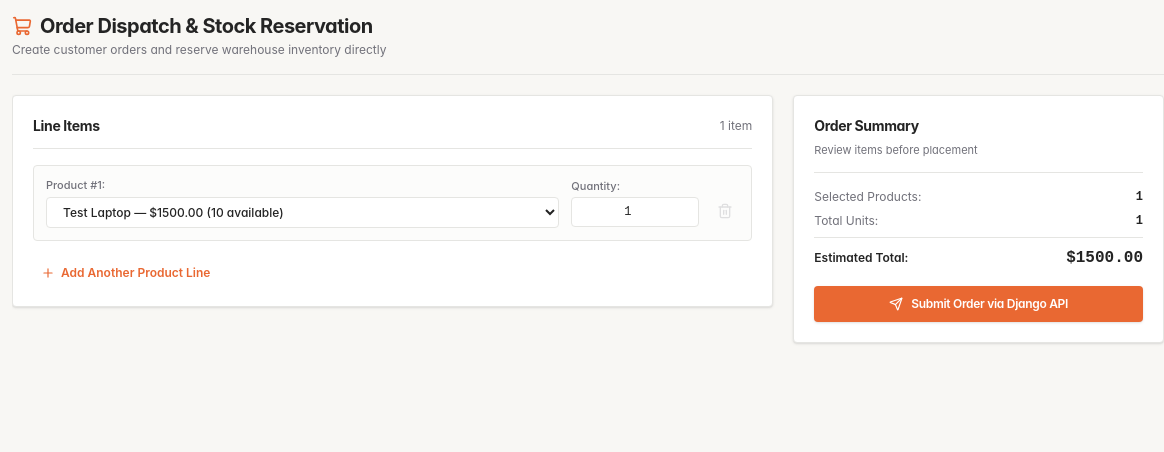
Test: OrdersPage — Primary Demo Slice › shows validation warning when quantity exceeds available stock
The width and height of the screenshot is (1164, 452).
Replace the text in the number field showing "1" with "999" at x=635, y=212, box [571,197,699,227]
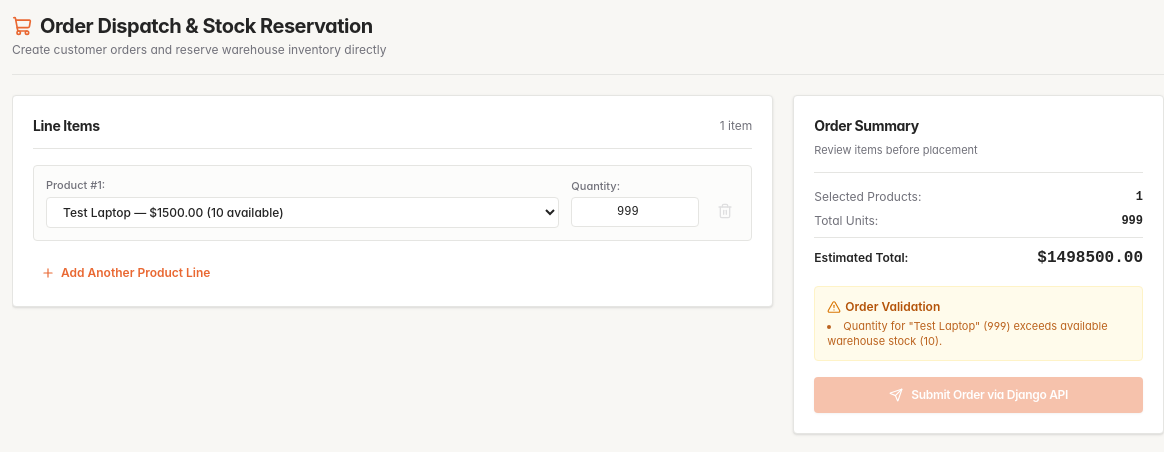
Expected: the list item "exceeds available warehouse stock" is shown, [827,319,1108,348]
Expected: the button "Submit Order via Django API" is disabled, [814,377,1143,413]
